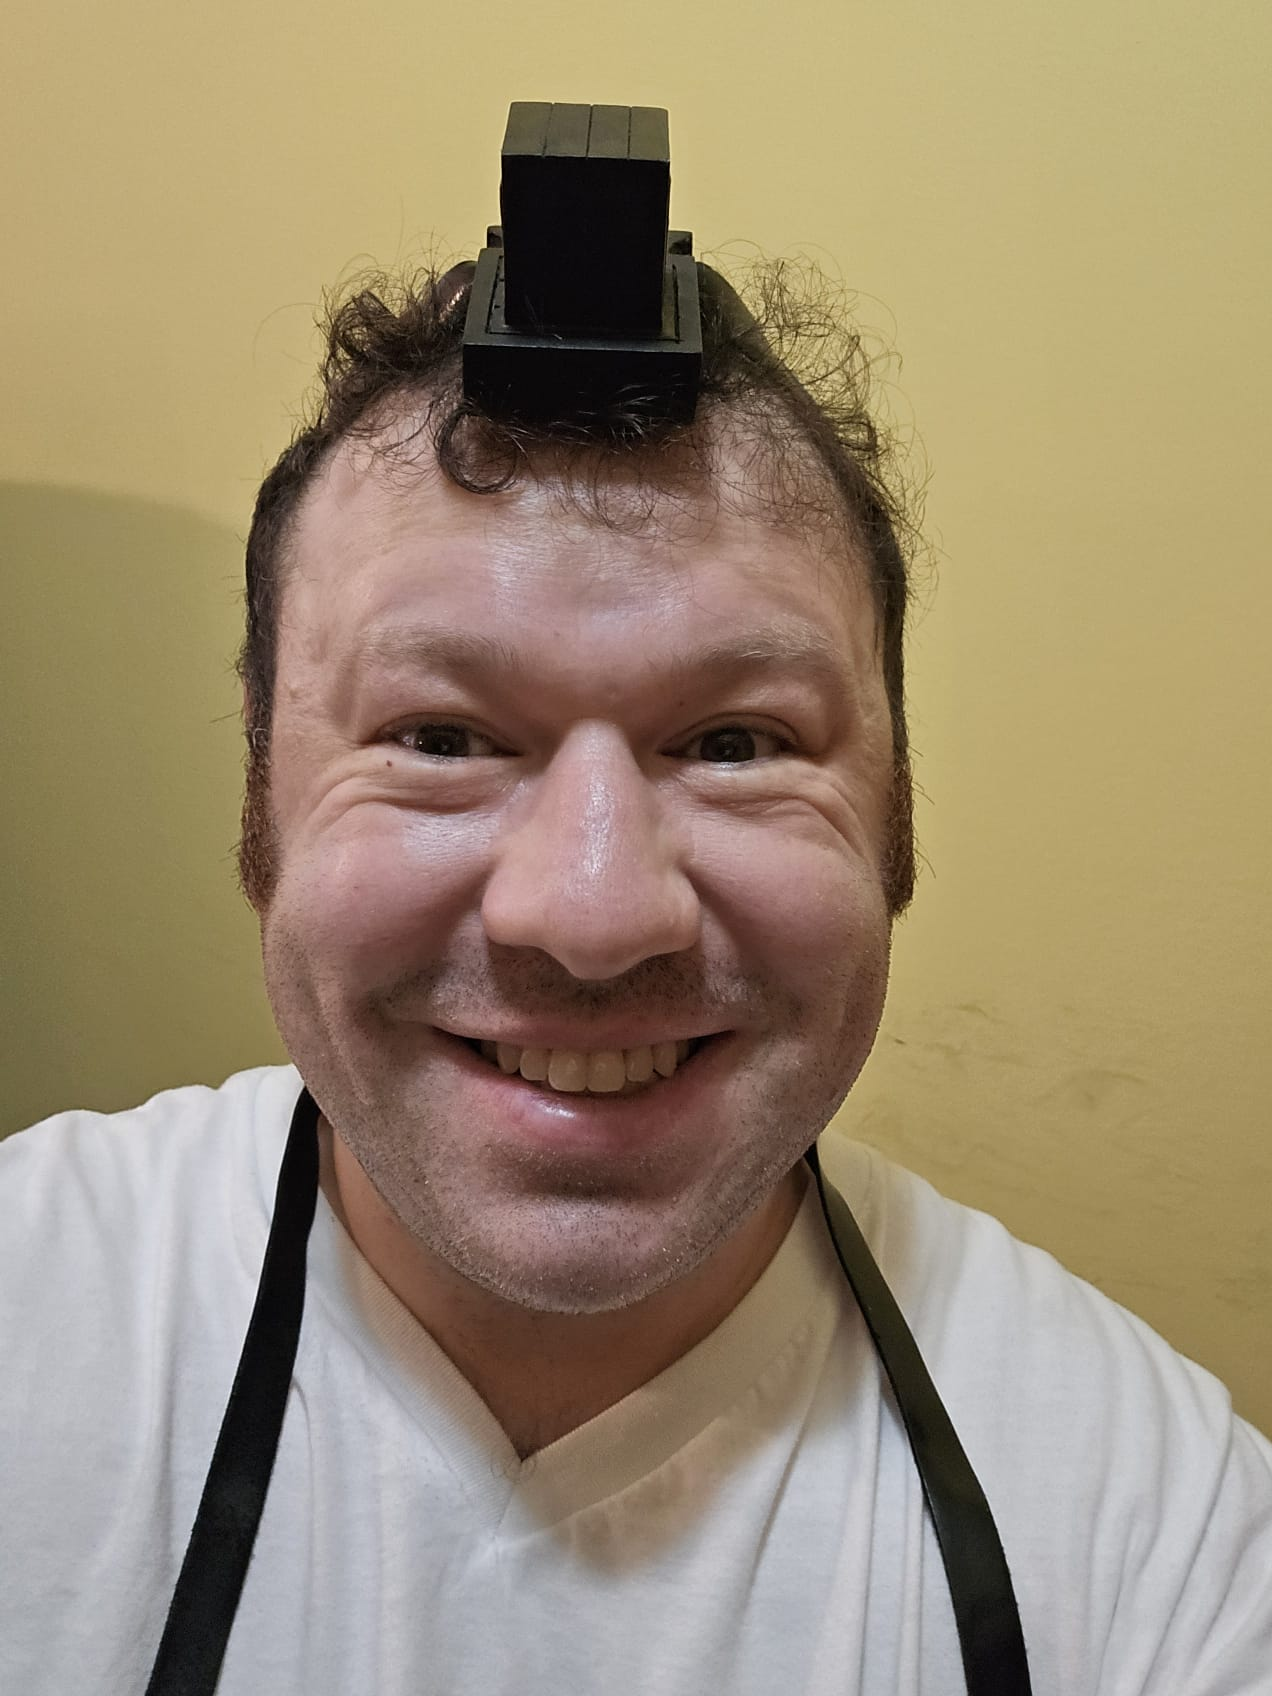tefillin: (464, 97, 707, 418)
